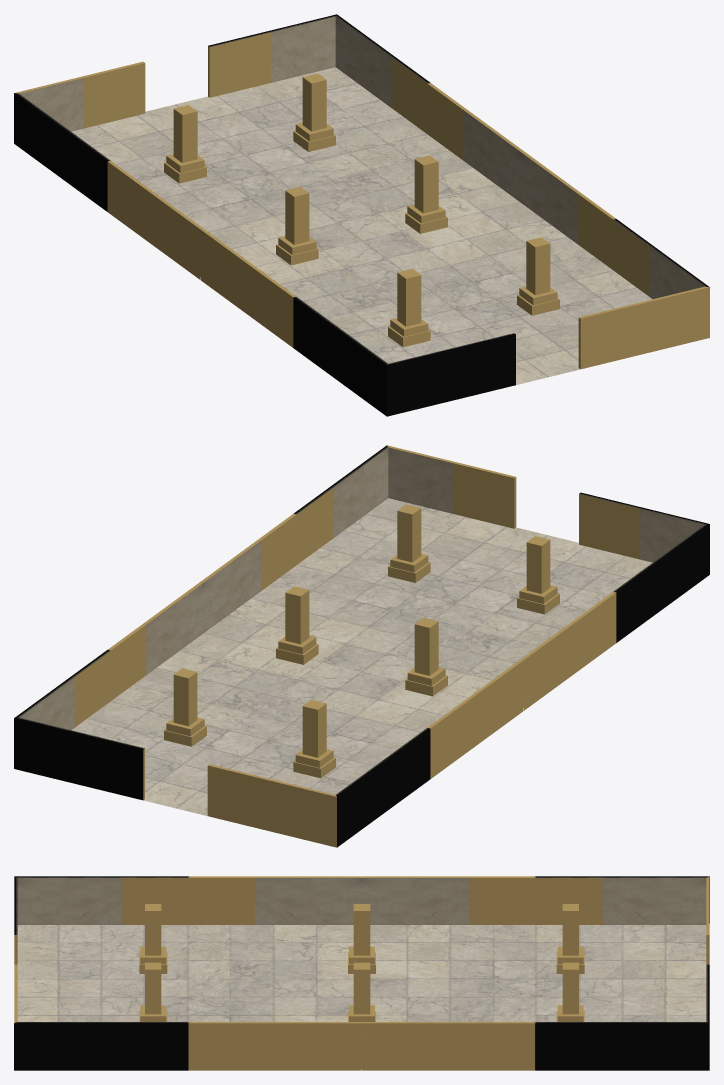
File: Room_Custom01_Type01.fbx
3 renders of one model, top to bottom at view 1: azimuth 30°, elevation 25°; view 2: azimuth 150°, elevation 25°; view 3: azimuth 270°, elevation 25°, orthographic. The views are drawn at different scales.
Visible parts, largest first — view 1: Room2x1_2Exits, Column16, Column15, Column11, Column13, Column12, Column9; view 2: Room2x1_2Exits, Column11, Column16, Column15, Column13, Column9, Column12; view 3: Room2x1_2Exits, Column11, Column12, Column9, Column15, Column16, Column13.
Boxes of the visible parts, x1=… form: Room2x1_2Exits: x1=14, y1=14, x2=709, y2=416; Column16: x1=293, y1=73, x2=335, y2=151; Column15: x1=405, y1=155, x2=447, y2=233; Column11: x1=276, y1=187, x2=318, y2=265; Column13: x1=517, y1=237, x2=559, y2=315; Column12: x1=164, y1=105, x2=206, y2=183; Column9: x1=388, y1=269, x2=430, y2=347; Room2x1_2Exits: x1=14, y1=445, x2=709, y2=847; Column11: x1=405, y1=618, x2=447, y2=696; Column16: x1=164, y1=668, x2=206, y2=746; Column15: x1=276, y1=586, x2=318, y2=664; Column13: x1=388, y1=504, x2=430, y2=582; Column9: x1=517, y1=536, x2=559, y2=614; Column12: x1=293, y1=700, x2=335, y2=778; Room2x1_2Exits: x1=14, y1=876, x2=709, y2=1070; Column11: x1=348, y1=904, x2=375, y2=973; Column12: x1=556, y1=904, x2=584, y2=973; Column9: x1=139, y1=904, x2=167, y2=973; Column15: x1=348, y1=962, x2=375, y2=1021; Column16: x1=556, y1=962, x2=584, y2=1021; Column13: x1=139, y1=962, x2=167, y2=1021.
Size of the model in its own units: 10 by 1.91 by 20.01.
